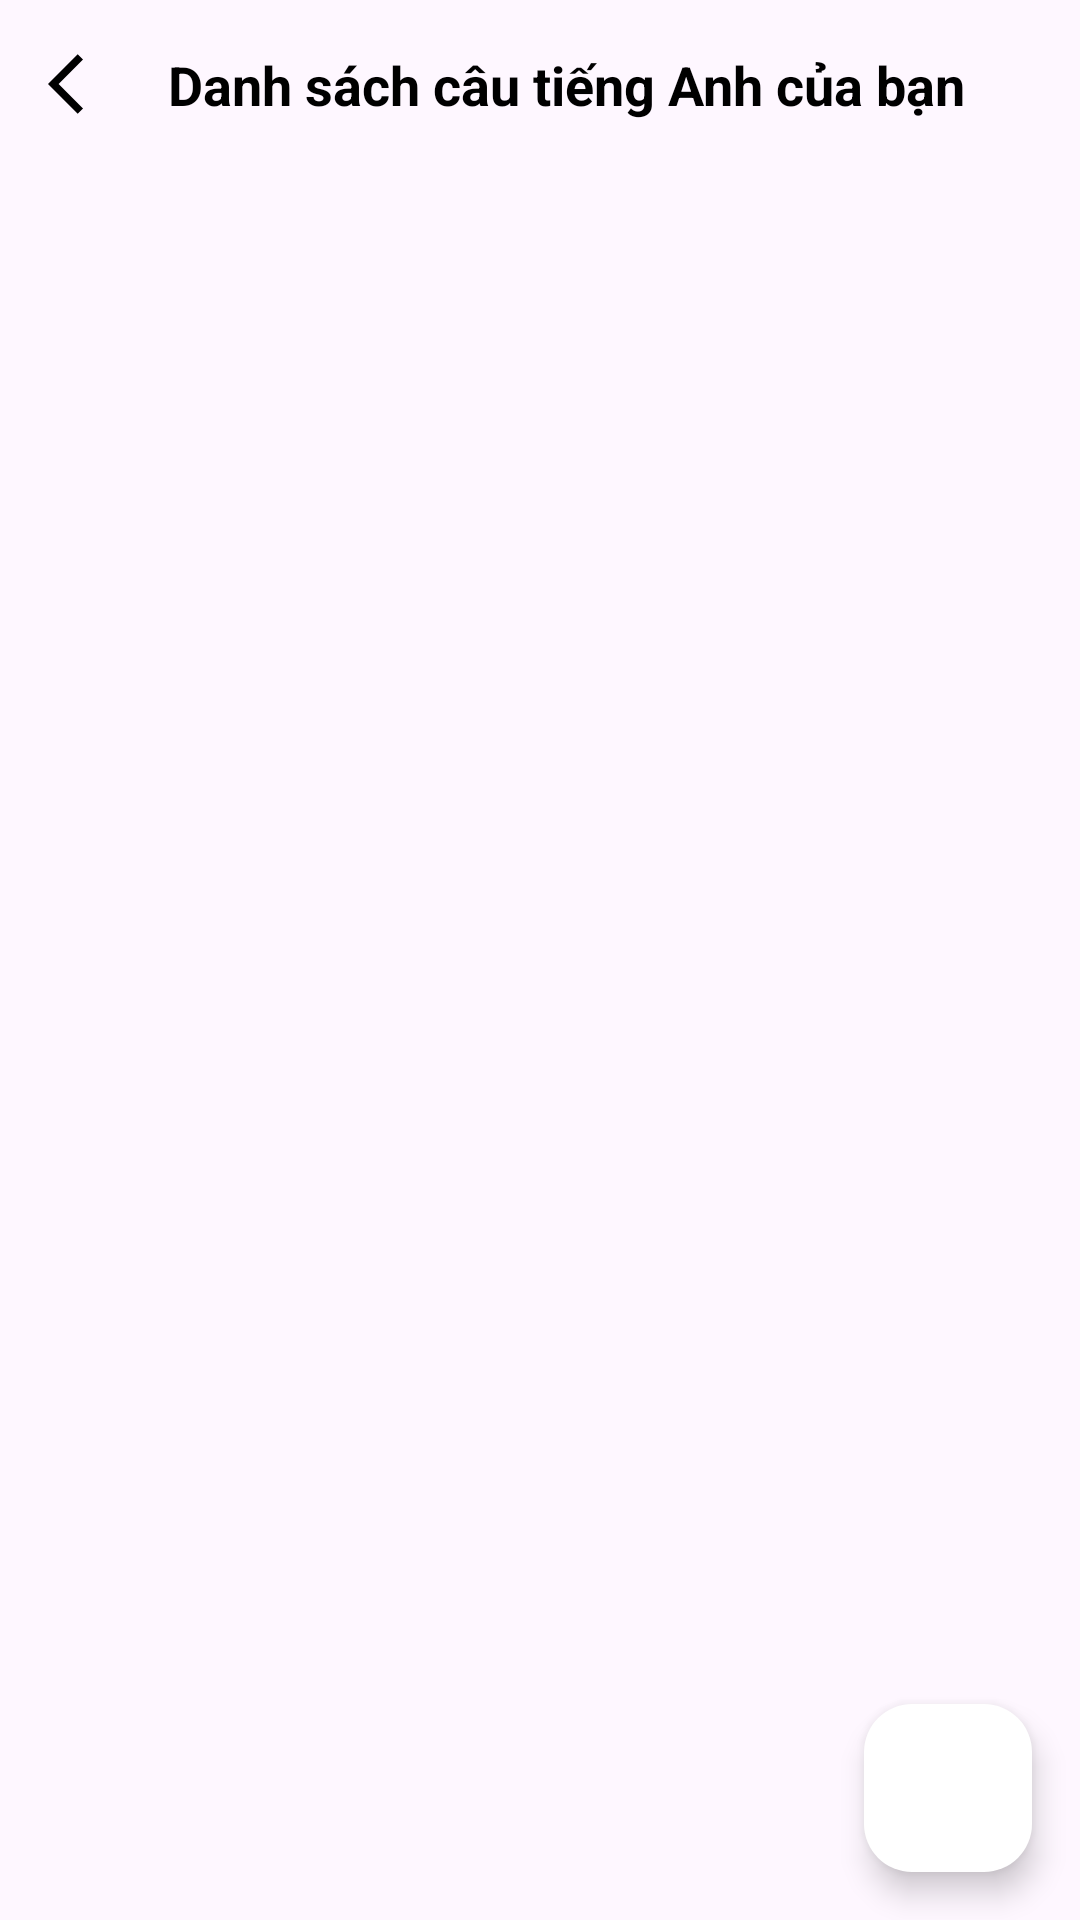

Named icons in this screenshot (1080px x 1920px) and their centers, (x,y):
back: (65,84)
